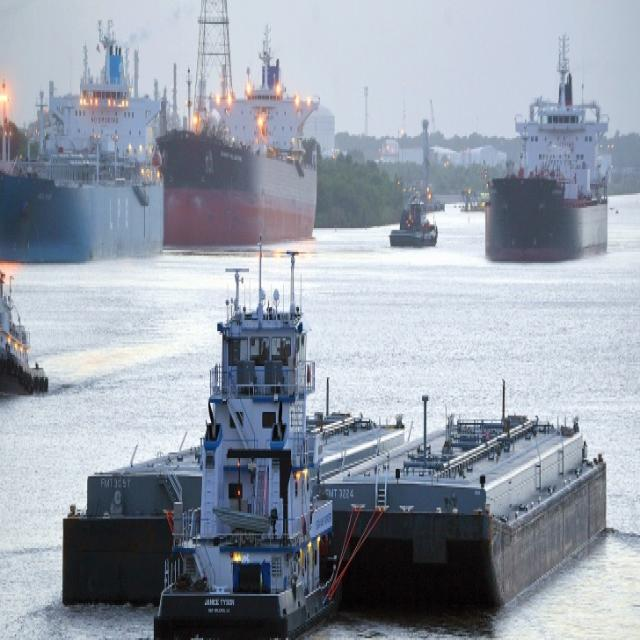tugboat: (152, 231, 348, 640)
